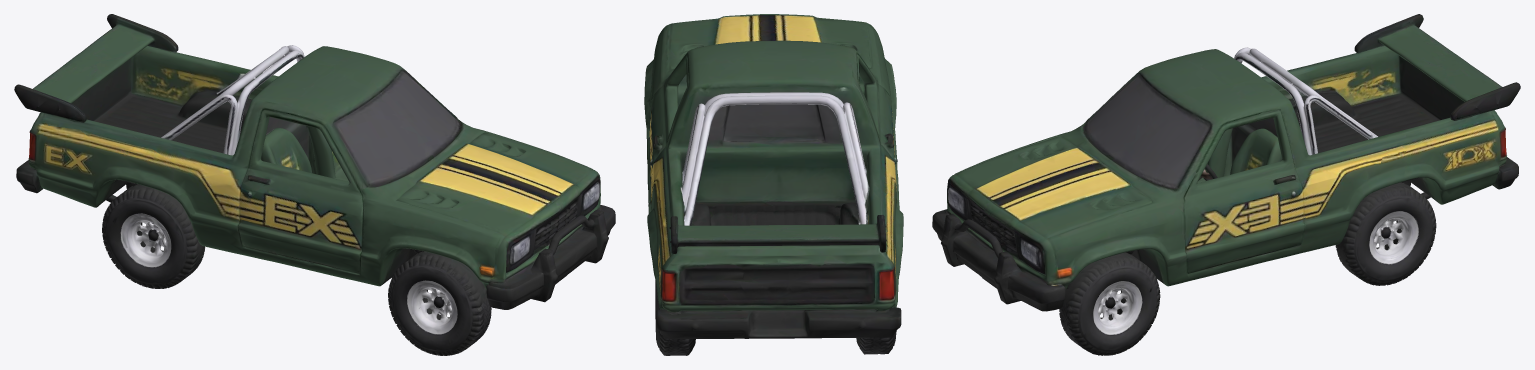
Rendered from pickup-truck.glb.
3 views of the same model, side by side, from view 1: azimuth 30°, elevation 25°; view 2: azimuth 150°, elevation 25°; view 3: azimuth 270°, elevation 25° (orthographic). The views are drawn at different scales.
Visible parts, largest first — view 1: tripo_part_0, tripo_part_6, tripo_part_4, tripo_part_7, tripo_part_3, tripo_part_2; view 2: tripo_part_0, tripo_part_2, tripo_part_7, tripo_part_1, tripo_part_4; view 3: tripo_part_0, tripo_part_5, tripo_part_1, tripo_part_7, tripo_part_3, tripo_part_2.
Boxes of the visible parts, left/top/right/bottom form: tripo_part_0: left=16, top=46, right=601, bottom=290; tripo_part_6: left=388, top=251, right=491, bottom=355; tripo_part_4: left=102, top=184, right=205, bottom=288; tripo_part_7: left=14, top=14, right=178, bottom=122; tripo_part_3: left=485, top=205, right=615, bottom=309; tripo_part_2: left=161, top=45, right=304, bottom=155; tripo_part_0: left=644, top=14, right=903, bottom=338; tripo_part_2: left=682, top=92, right=869, bottom=225; tripo_part_7: left=669, top=215, right=886, bottom=253; tripo_part_1: left=655, top=280, right=695, bottom=355; tripo_part_4: left=856, top=331, right=896, bottom=354; tripo_part_0: left=946, top=46, right=1518, bottom=289; tripo_part_5: left=1059, top=252, right=1160, bottom=355; tripo_part_1: left=1335, top=182, right=1436, bottom=285; tripo_part_7: left=1354, top=14, right=1520, bottom=120; tripo_part_3: left=932, top=209, right=1065, bottom=311; tripo_part_2: left=1234, top=47, right=1377, bottom=155.
Bounding box in the file's own units: 0.8 × 0.3773 × 1.
8 materials, 8 textured.
